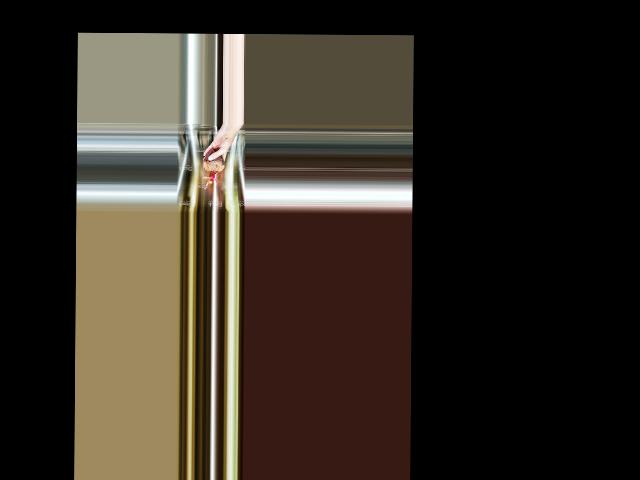beet: (202, 148, 224, 189)
